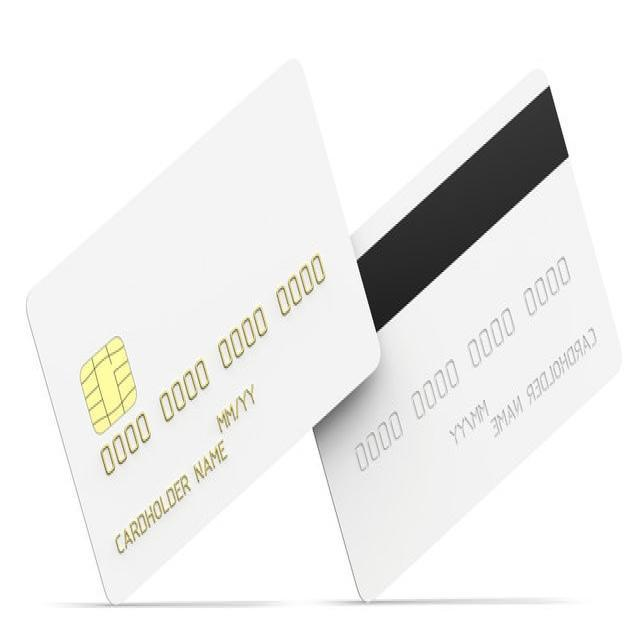payment_card: (23, 56, 381, 604), (311, 67, 623, 602)
